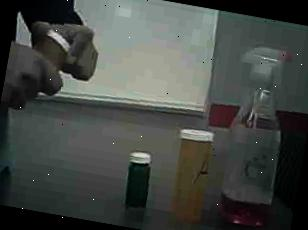Bottle A: (160, 125, 221, 230)
Bottle B: (14, 16, 94, 112)
Bottle C: (118, 148, 159, 220)
hazard: (206, 36, 308, 230)
